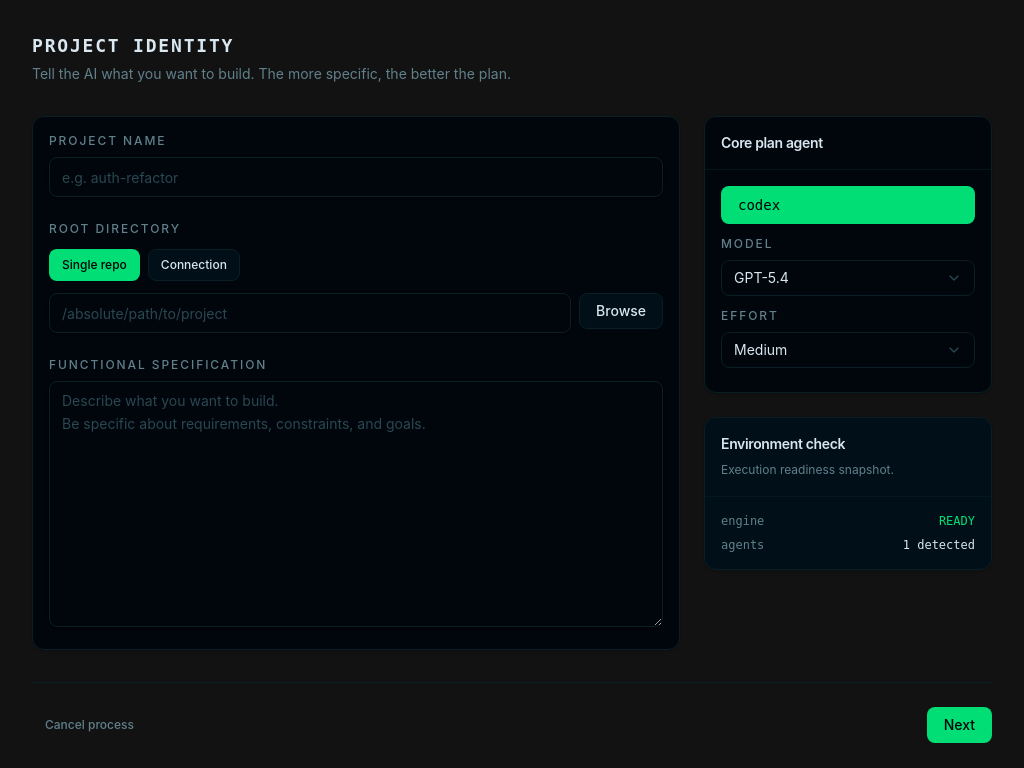
Test: Describe › fills the working directory from the mocked desktop dialog
Click the button with test id "describe-browse-directory". click: (621, 311)
box: [579, 293, 663, 329]
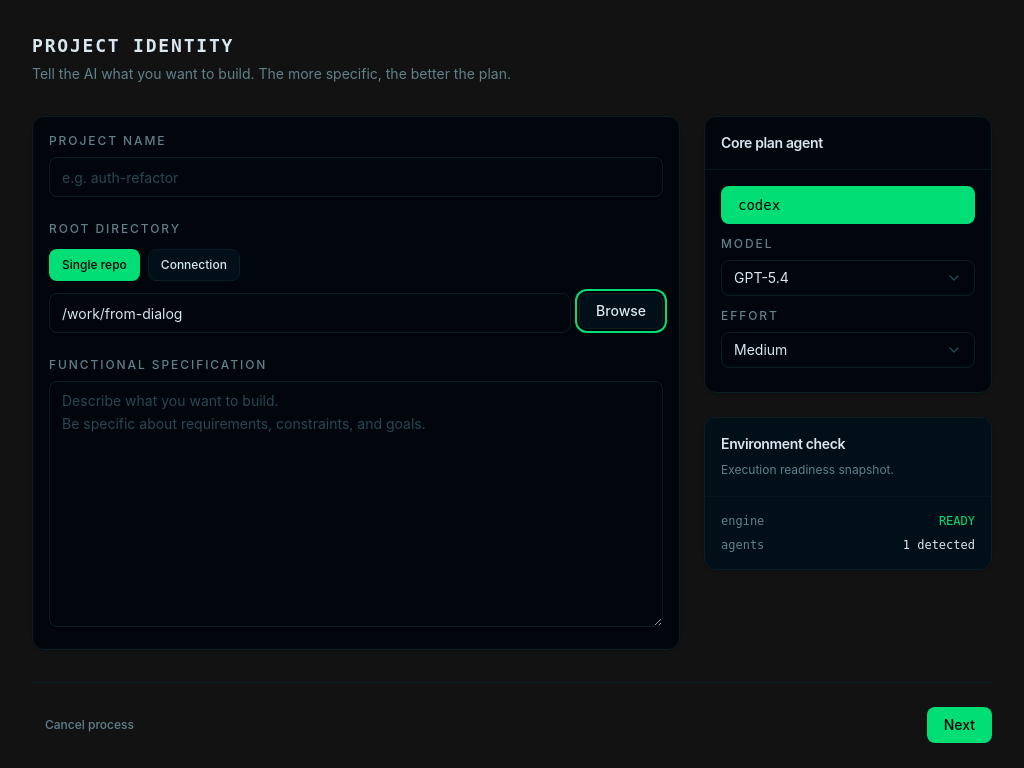
Result: the field showing "/work/from-dialog" is shown at [49, 293, 571, 333]
